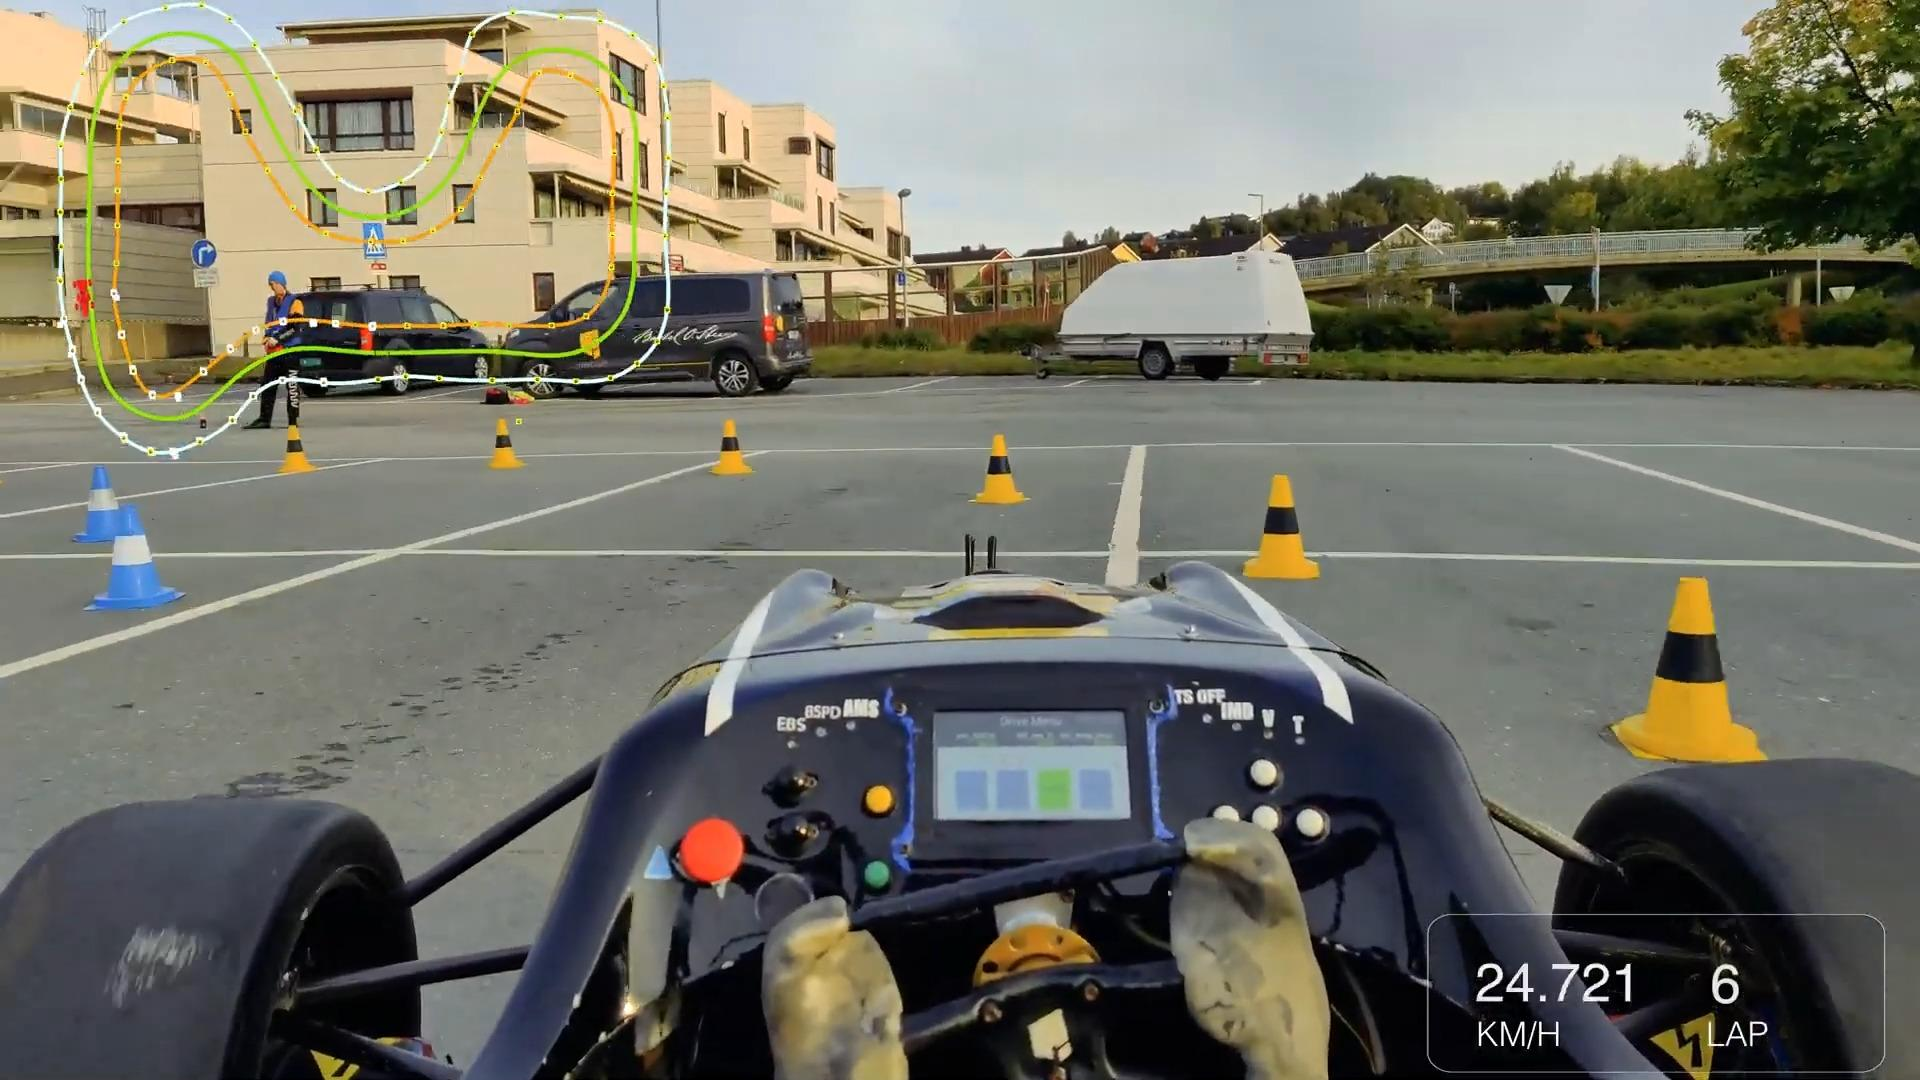blue_cone: (87, 506, 182, 613), (67, 467, 117, 538)
yellow_cone: (1606, 575, 1772, 765), (1240, 467, 1323, 583), (969, 431, 1035, 508), (704, 417, 757, 479), (276, 429, 316, 479), (488, 418, 524, 472)
